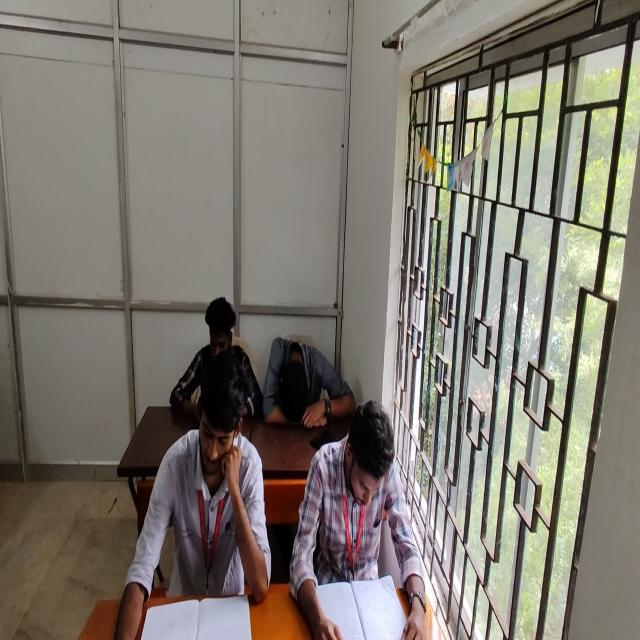reading: (115, 349, 271, 639), (286, 401, 409, 640)
sleeping: (266, 336, 356, 429)
using_mobile: (169, 295, 263, 425)
